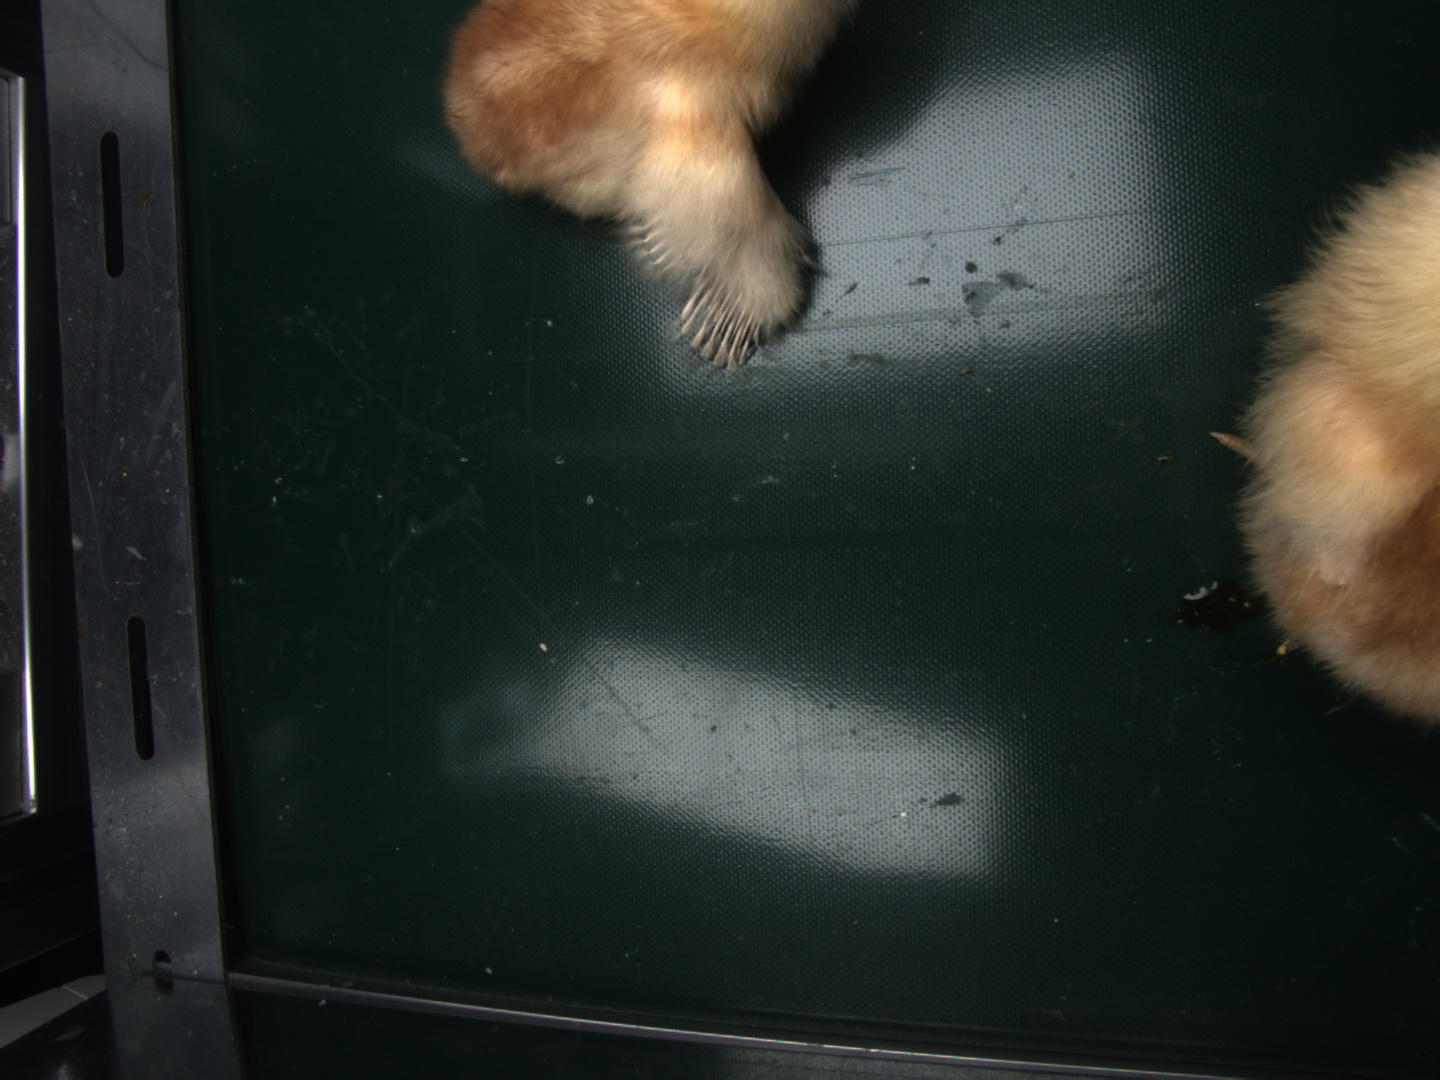female: (678, 280, 761, 374)
